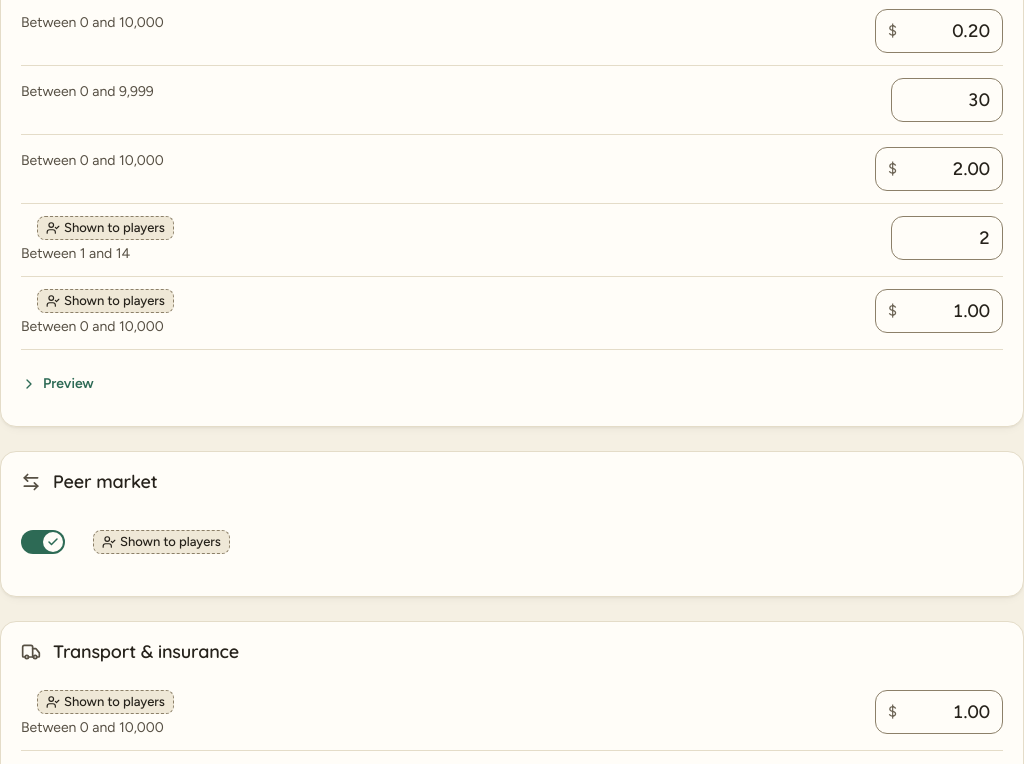
Test: Preview collapsibles (acceptance 13, failure mode 11) › Stock: clicking Preview opens it and shows the preview
(page scrolled)
Click the heading "Preview". click: (57, 384)
box: x1=21 y1=375 x2=94 y2=392
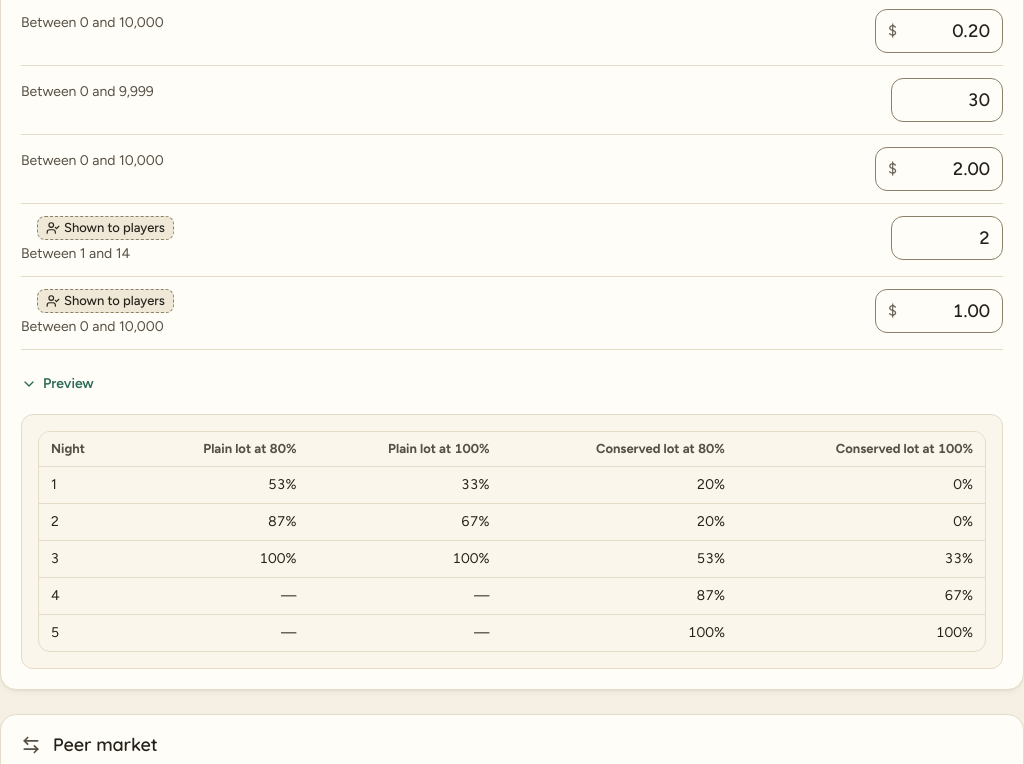
Result: the column heading "Plain lot at 80%" is shown at x1=128 y1=432 x2=308 y2=466
